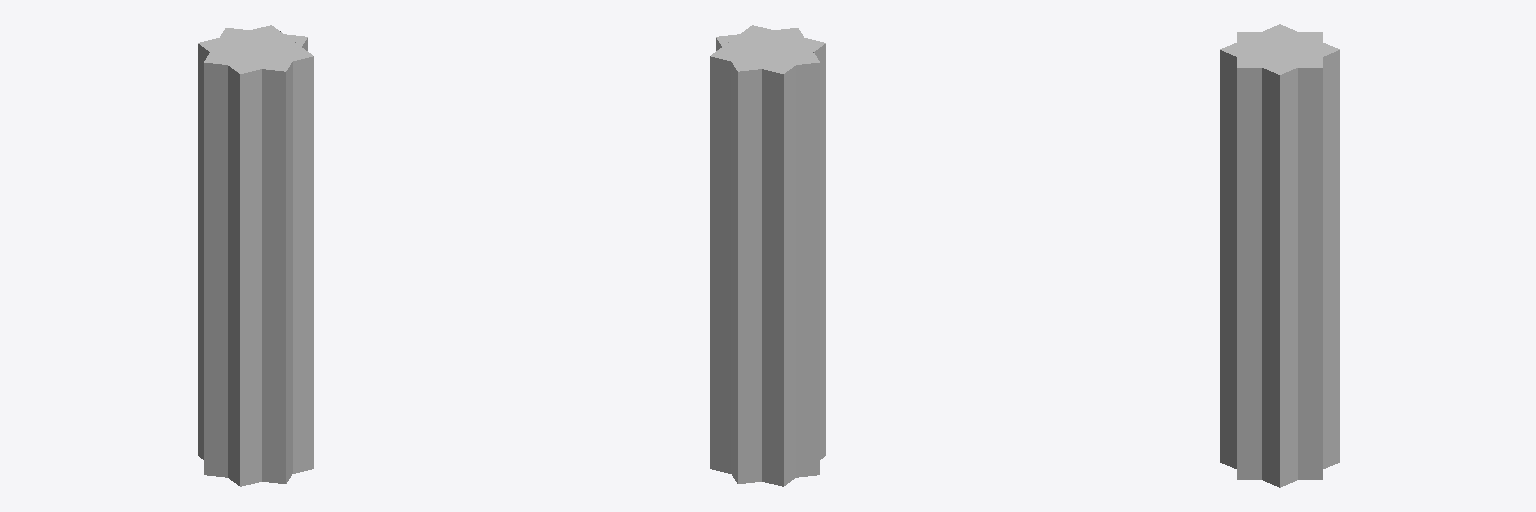
The model's file is rotaryshaft.obj.
The picture shows the model from 3 angles: view 1: azimuth 30°, elevation 25°; view 2: azimuth 150°, elevation 25°; view 3: azimuth 270°, elevation 25°; orthographic projection.
Parts seen in each view (by area): view 1: shaft45_Cube.002; view 2: shaft45_Cube.002; view 3: shaft45_Cube.002.
Part boxes in pixels (x1,y1,x2,y2): shaft45_Cube.002: (198, 25, 313, 486); shaft45_Cube.002: (710, 25, 825, 486); shaft45_Cube.002: (1220, 24, 1339, 487).
Bounding box in the file's own units: 0.2652 × 1 × 0.2652.